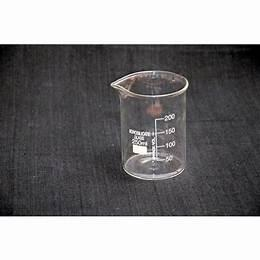Beaker: (114, 66, 186, 186)
